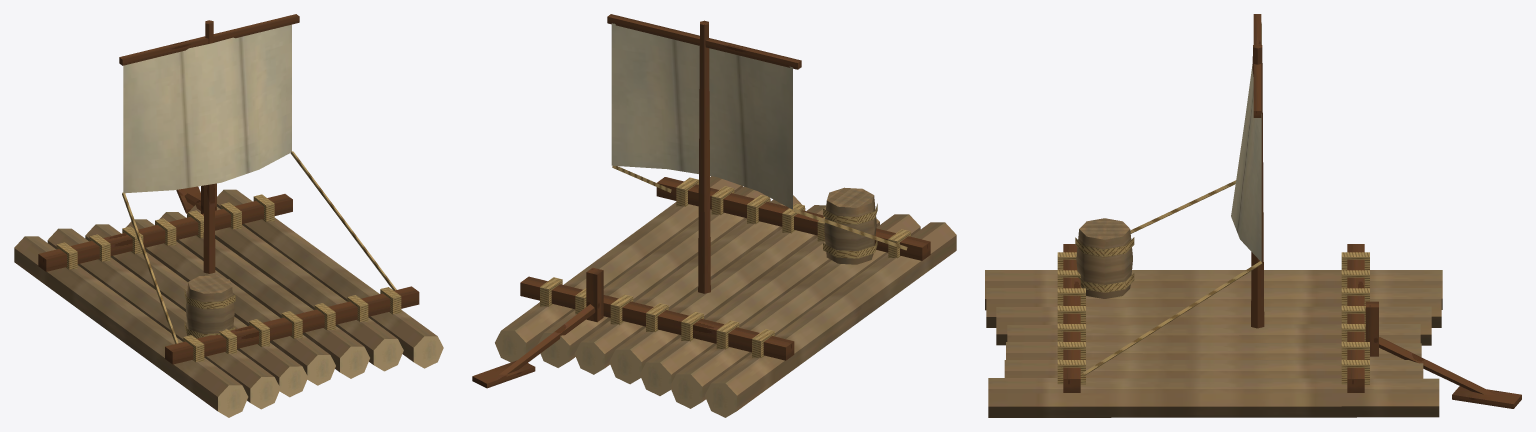
Rendered from raft.glb.
3 views of the same model, side by side, from view 1: azimuth 30°, elevation 25°; view 2: azimuth 150°, elevation 25°; view 3: azimuth 270°, elevation 25° (orthographic). The views are drawn at different scales.
Visible parts, largest first — view 1: raft; view 2: raft; view 3: raft.
Boxes of the visible parts, box(x1,y1,x2,y2) form: raft: box(14, 14, 443, 417); raft: box(472, 14, 956, 417); raft: box(985, 14, 1521, 417).
Size of the model in its own units: 2.93 by 3.19 by 4.91.
2 materials, 2 textured.
